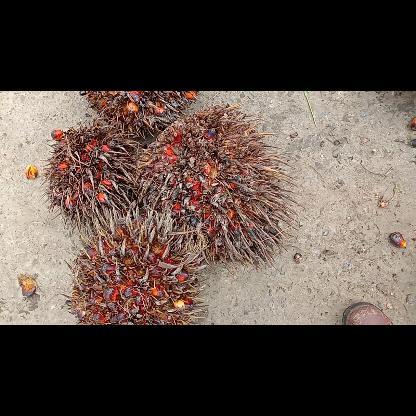Terlalu masak: (133, 98, 301, 274), (66, 204, 212, 324), (36, 118, 146, 237), (75, 91, 202, 141)
